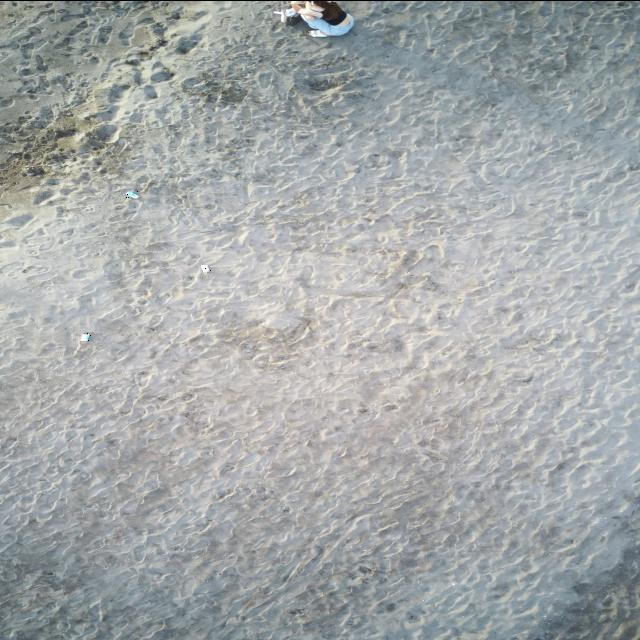Garbage: (273, 8, 300, 24), (273, 11, 286, 22), (283, 8, 296, 16), (80, 332, 91, 340), (124, 191, 139, 196), (200, 264, 209, 271)
